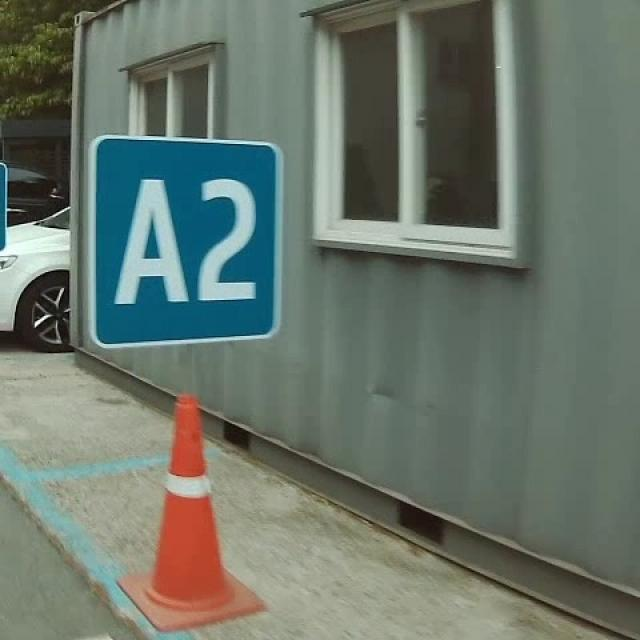a2: (74, 125, 285, 360)
